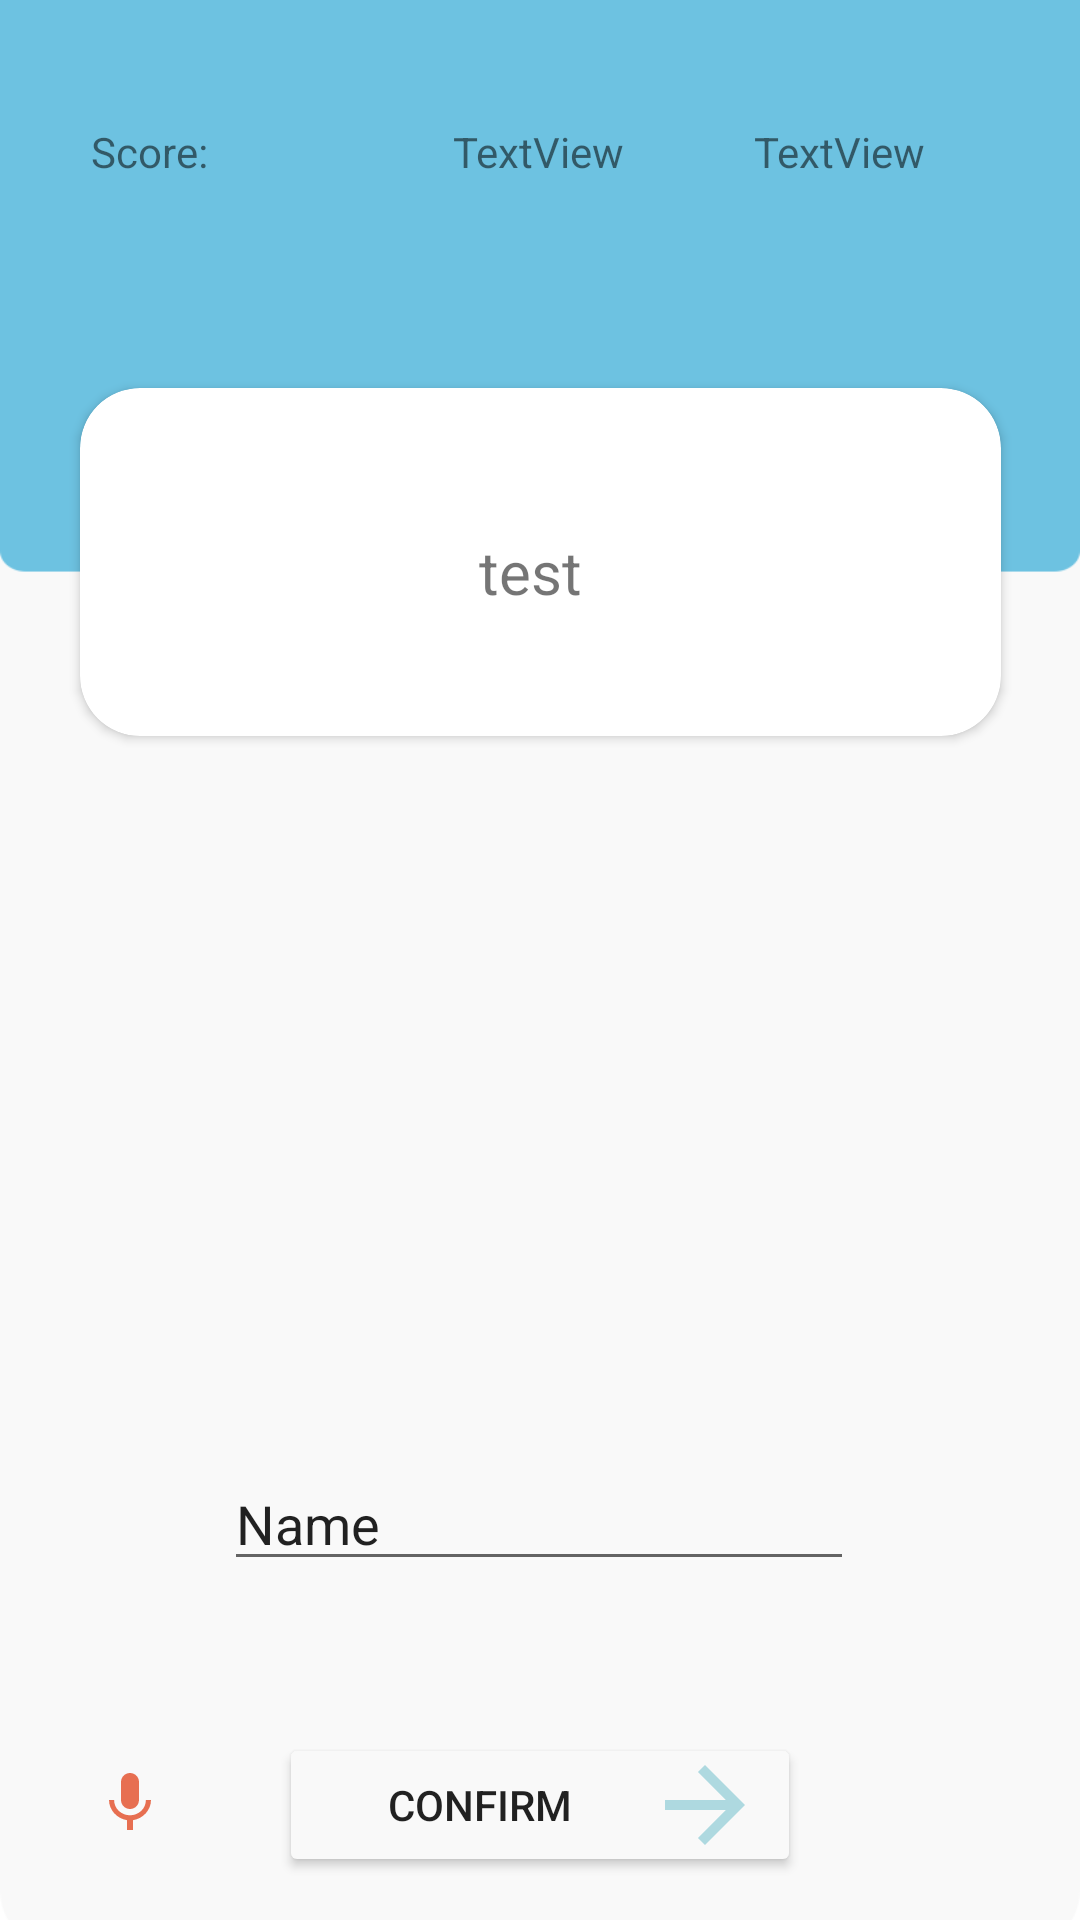

Screen size 1080 × 1920. Icon name, then its box in pixels as (x1, y1, x2, y2):
mic: (109, 1773, 151, 1830)
